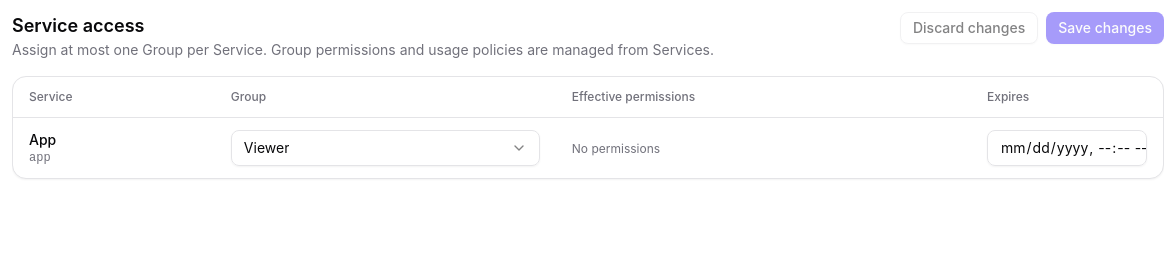
Test: UserAccessTab › discard restores original state
This screenshot has width=1176, height=265.
Click the dropdown named "Group for App".
click(267, 147)  # box [231,130,540,166]
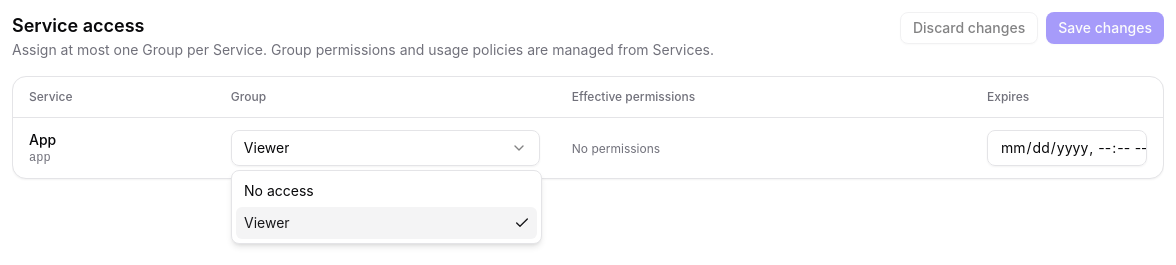
Click the option "No access".
click(279, 190)  # box [244,182,314,199]
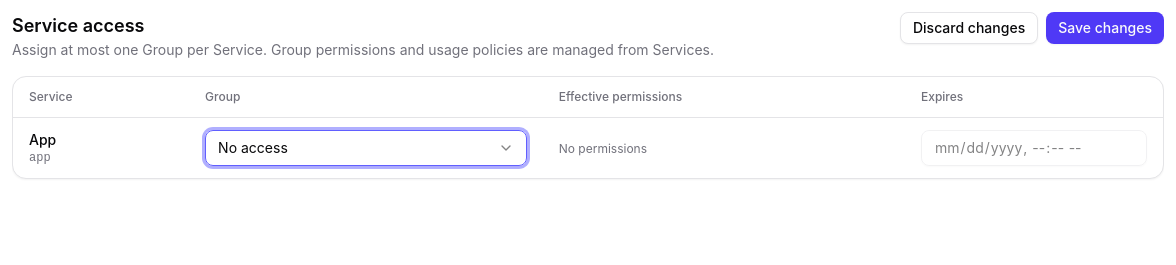
Click the button "Discard changes".
click(969, 28)  # box [900,12,1038,44]
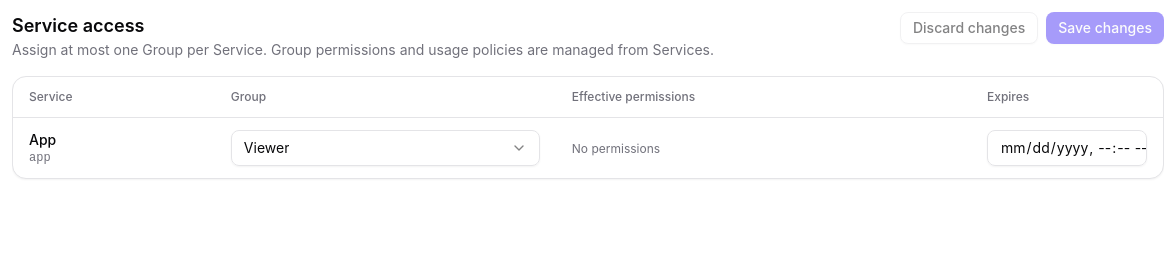
Check: the button "Discard changes" is disabled, box [900,12,1038,44]
